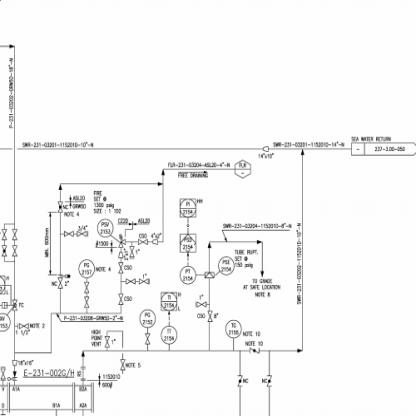LMI: (75, 254, 96, 278), (138, 306, 157, 328), (224, 316, 242, 339), (94, 218, 114, 238), (178, 265, 197, 286), (218, 256, 235, 278), (160, 325, 178, 345)
TAG: (178, 194, 197, 218), (159, 288, 178, 312)
